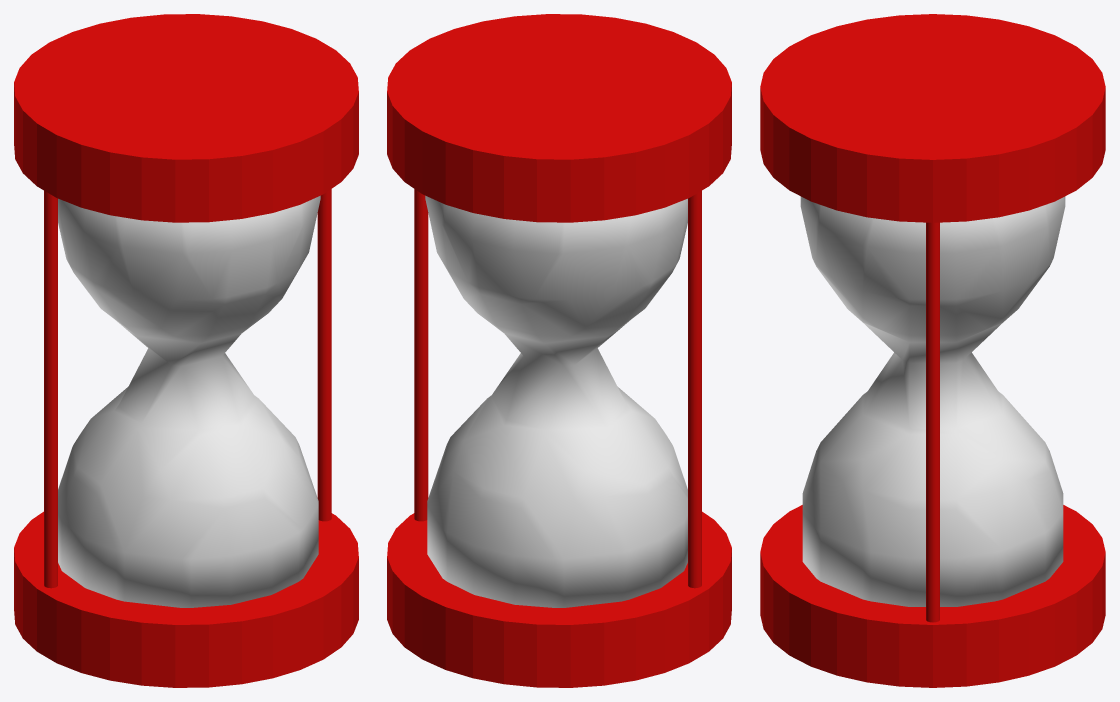
Rendered from reloj de arena.fbx.
3 renders of one model, left to right at view 1: azimuth 30°, elevation 25°; view 2: azimuth 150°, elevation 25°; view 3: azimuth 270°, elevation 25°, orthographic.
Parts seen in each view (by area): view 1: caja, reloj; view 2: caja, reloj; view 3: caja, reloj.
Part boxes in pixels (box(x1,y1,x2,y2)): caja: box(14, 14, 358, 687); reloj: box(58, 195, 320, 607); caja: box(387, 14, 731, 687); reloj: box(425, 195, 687, 607); caja: box(760, 14, 1105, 687); reloj: box(800, 196, 1065, 606).
Size of the model in its own units: 296 by 499 by 296.
